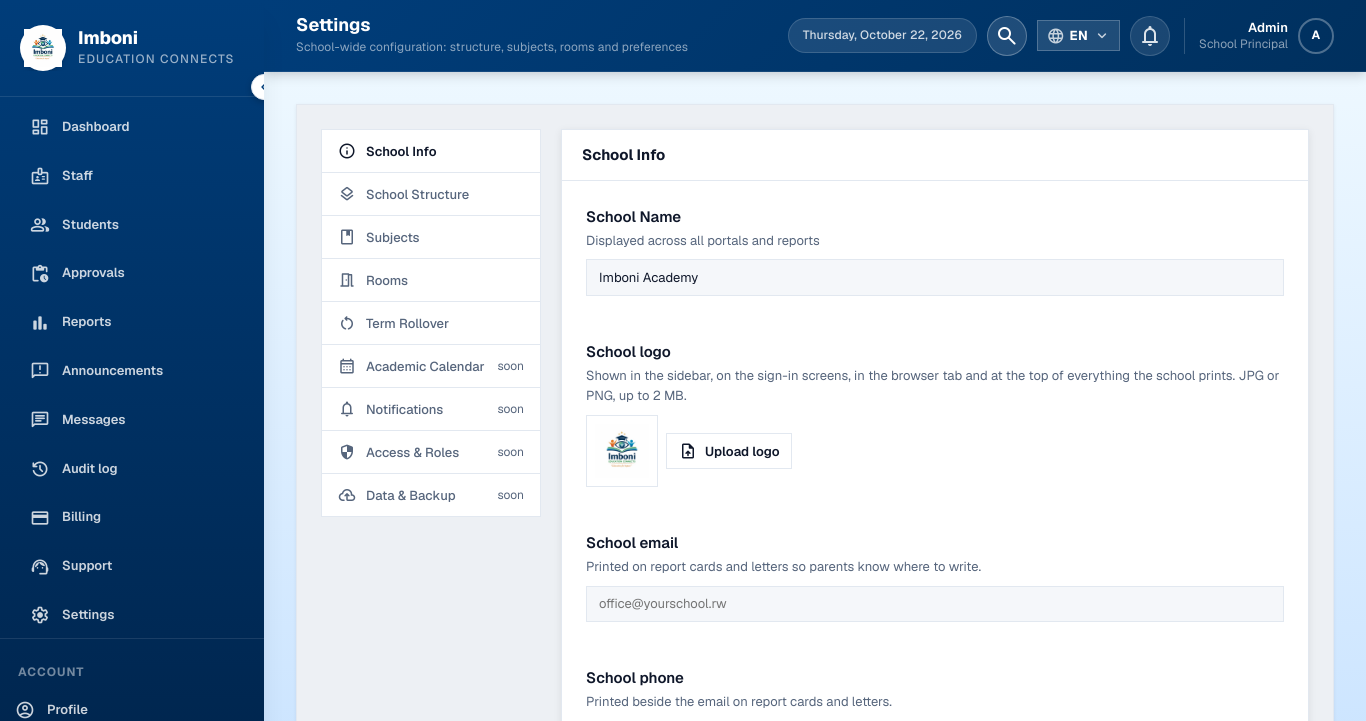
it: AdminSettings › saves school info changes
Replace the text in the field showing "Imboni Academy" with "New Name Academy" at (935, 278), box [586,259,1284,296]
(page scrolled)
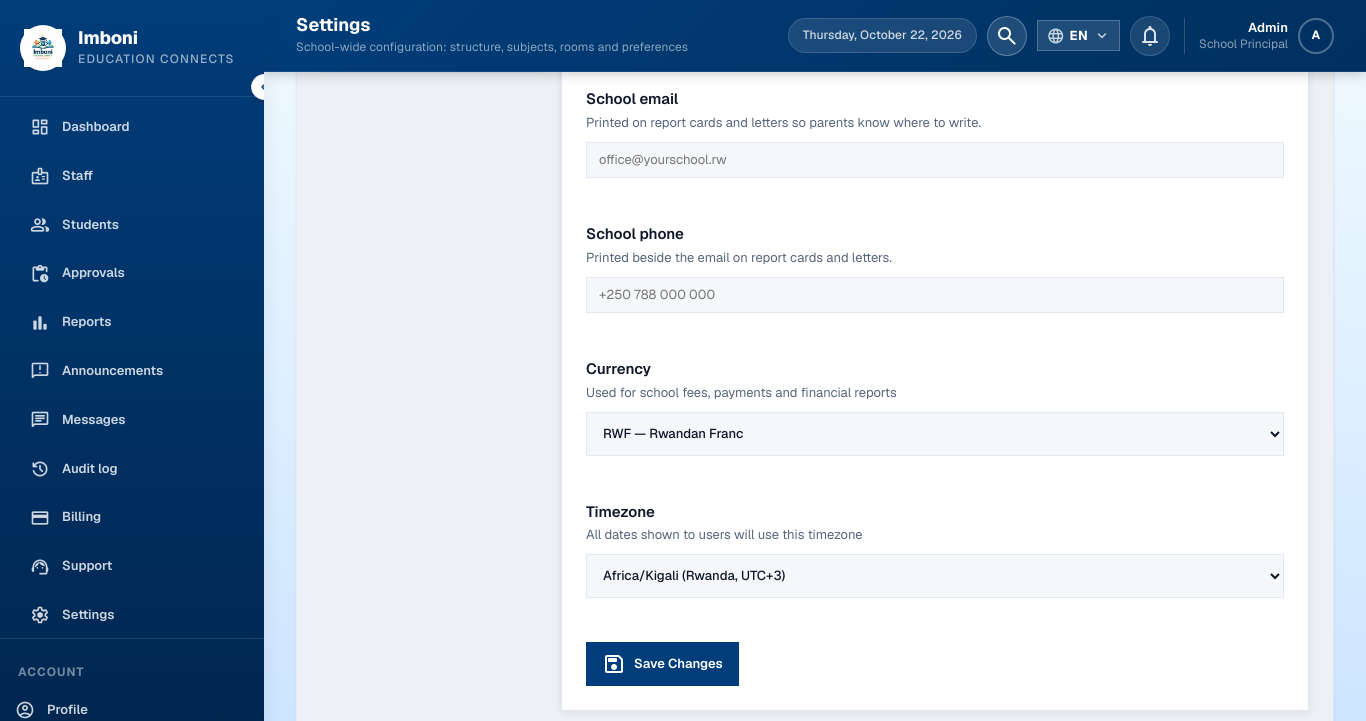
Click the button "Save Changes" at (662, 664), box [586,642,739,686]
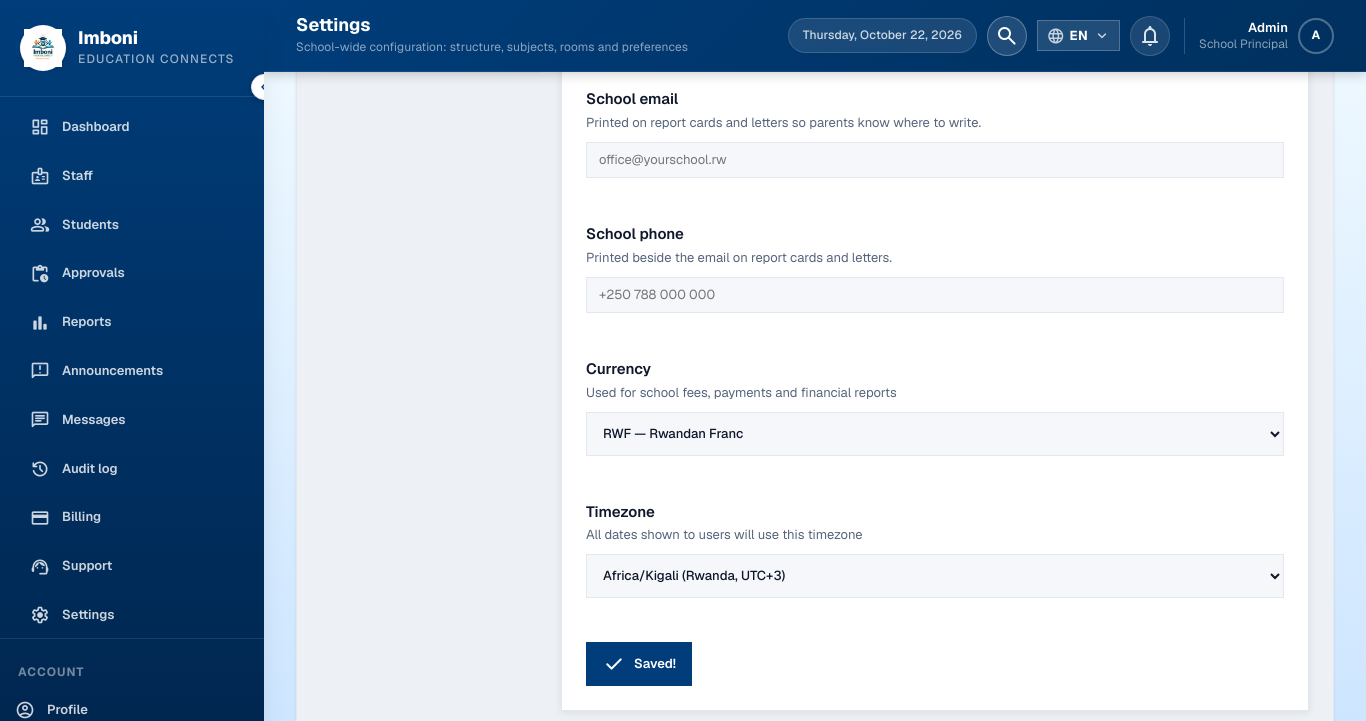
Result: the button "Saved!" is shown at [586,642,692,686]
